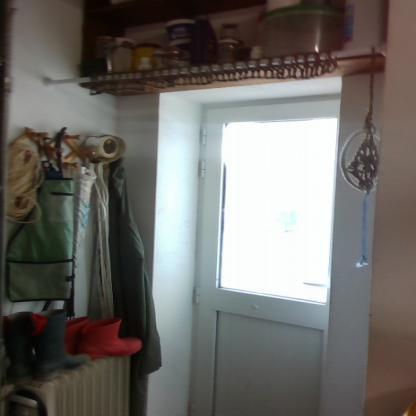door: (202, 106, 330, 416)
hinged: (198, 158, 208, 180), (195, 284, 202, 304), (202, 124, 207, 145), (190, 402, 197, 416)
lever: (301, 277, 328, 292)
